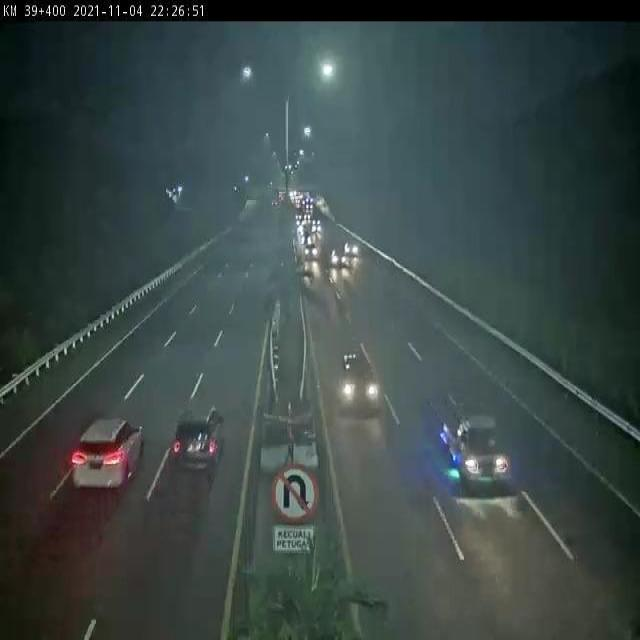ARABA: (71, 416, 145, 489), (174, 405, 225, 472), (337, 352, 379, 411)
KAMYONET: (439, 409, 510, 491)
